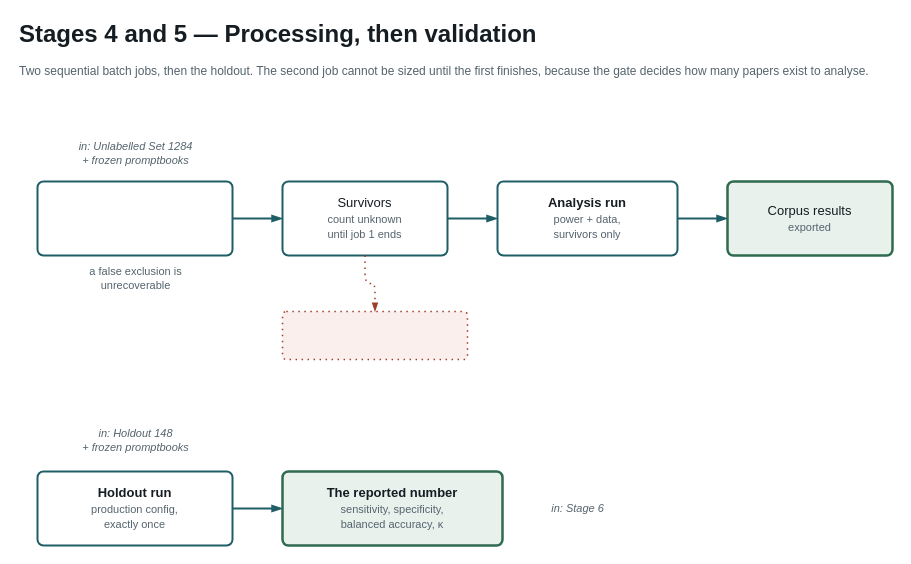
Some shapes in this 911 by 564 pixel diagram are drawn without their labels. Each missing label, with the centre of its shape:
excluded papers get no power/data row: [374,335]
Gate run exclusion on 1284 Sonnet + Opus 2nd pass: [134,218]
